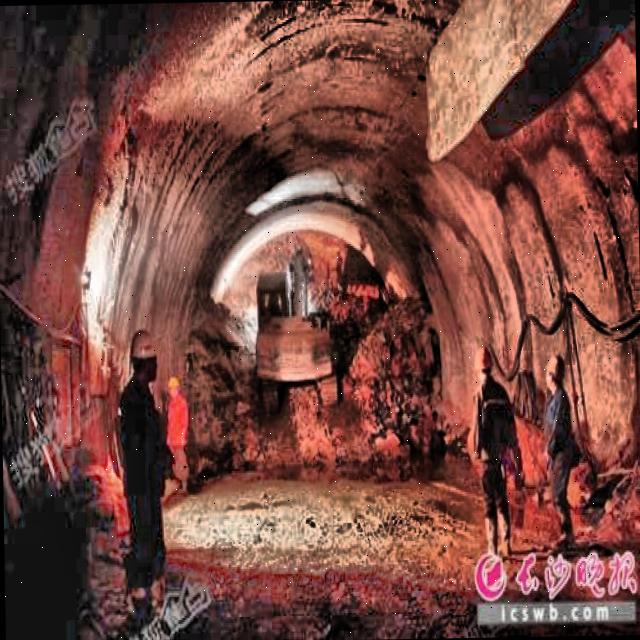helmet: (130, 322, 162, 384), (538, 349, 570, 398), (466, 340, 496, 386), (163, 370, 184, 400)
